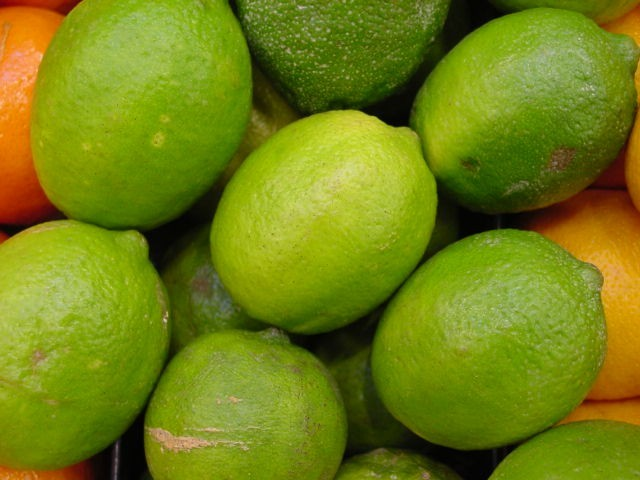lime: (32, 1, 248, 223), (217, 110, 425, 317), (373, 237, 594, 425), (416, 6, 623, 202), (1, 225, 167, 468), (145, 329, 338, 480), (239, 1, 444, 107), (489, 412, 640, 479), (157, 229, 242, 346)
